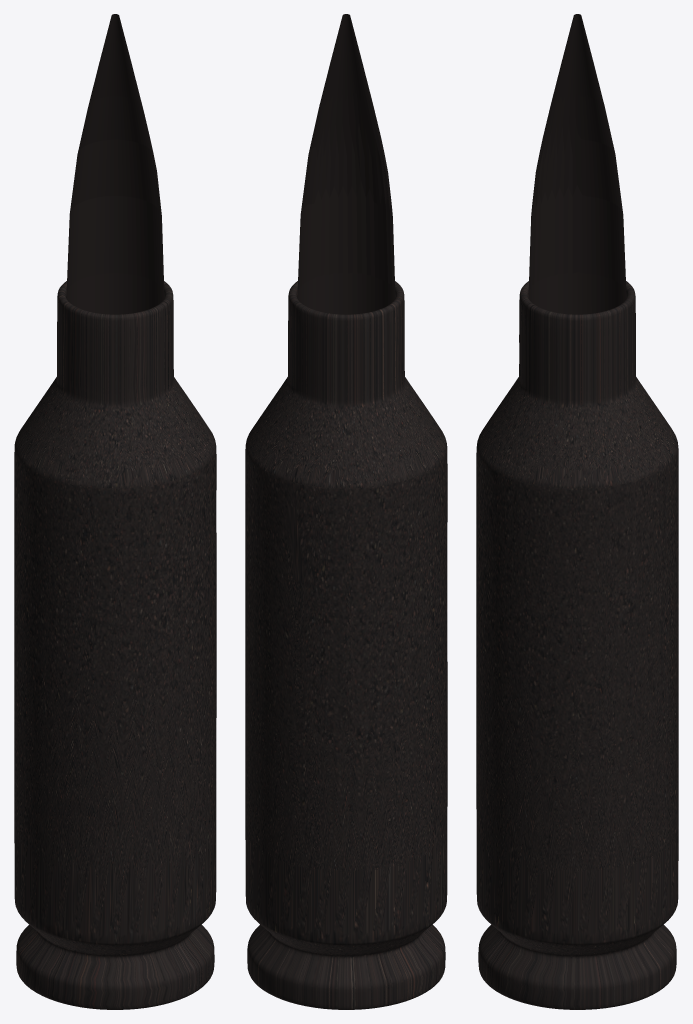
The model's file is projectile2.fbx.
The picture shows the model from 3 angles, left to right: view 1: azimuth 30°, elevation 25°; view 2: azimuth 150°, elevation 25°; view 3: azimuth 270°, elevation 25°; orthographic projection.
Visible parts, largest first — view 1: Cylinder; view 2: Cylinder; view 3: Cylinder.
Part boxes in pixels (x1,y1,x2,y2): Cylinder: (14, 14, 216, 1009); Cylinder: (245, 14, 447, 1009); Cylinder: (476, 14, 678, 1009).
Bounding box in the file's own units: 199 × 1035 × 199.
